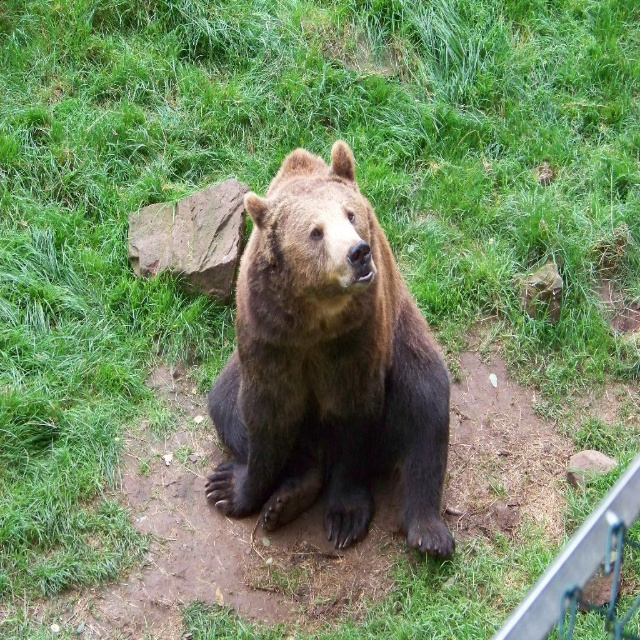Brown bear: (205, 139, 457, 563)
